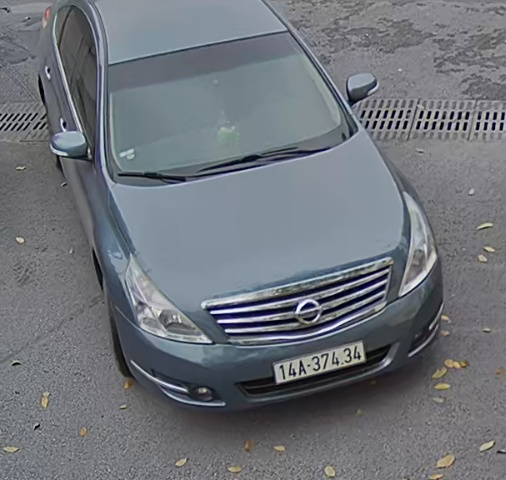vehicle plate: (271, 340, 366, 388)
